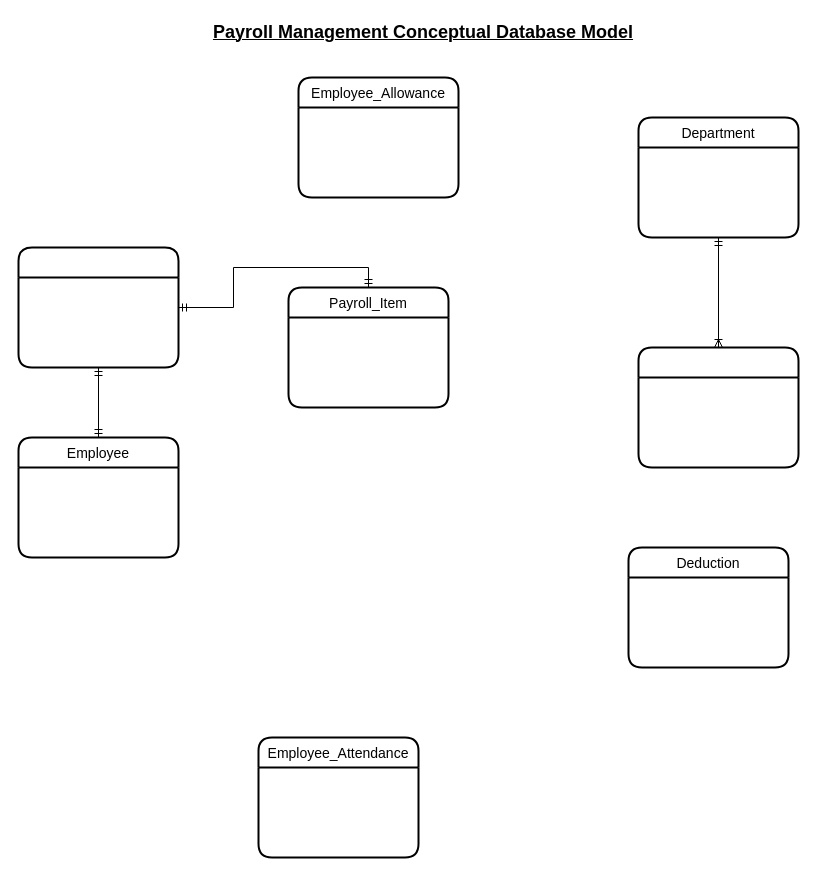
This 816x875 diagram has some shape labels left out. The box of each missing label's shape, as (x1, y1, x2, y2) in pixels:
Payroll: (17, 246, 179, 368)
Position: (637, 346, 799, 468)
